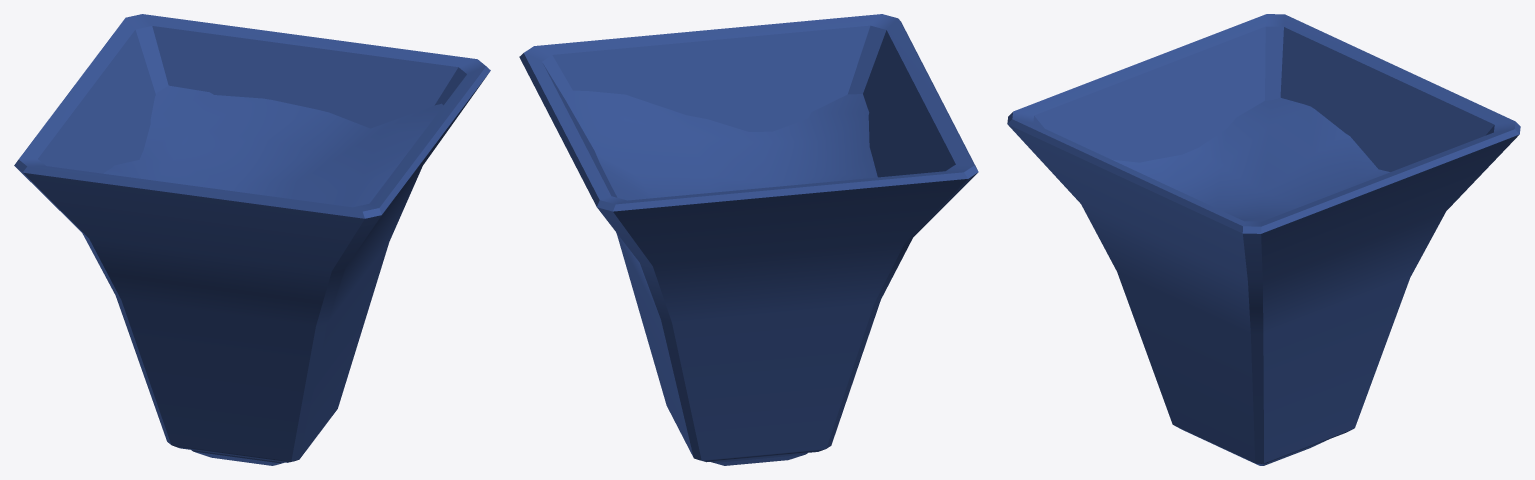
Rendered from Plant Pot.fbx.
The picture shows the model from 3 angles, left to right: view 1: azimuth 30°, elevation 25°; view 2: azimuth 150°, elevation 25°; view 3: azimuth 270°, elevation 25°; orthographic projection. The views are drawn at different scales.
Visible parts, largest first — view 1: Plant_Pot_01; view 2: Plant_Pot_01; view 3: Plant_Pot_01.
Boxes of the visible parts, left/top/right/bottom form: Plant_Pot_01: left=14, top=14, right=490, bottom=465; Plant_Pot_01: left=519, top=14, right=978, bottom=465; Plant_Pot_01: left=1007, top=14, right=1520, bottom=465.
Size of the model in its own units: 49.06 by 34.38 by 49.06.
